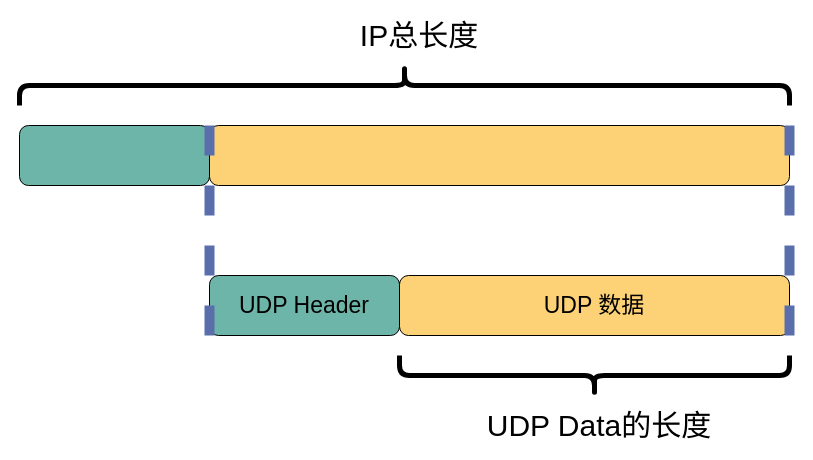
This 813x460 diagram has some shape labels left out. Each missing label, with the centre of its shape:
"IP Header" belongs at [114,155].
"IP数据" belongs at [499,155].
